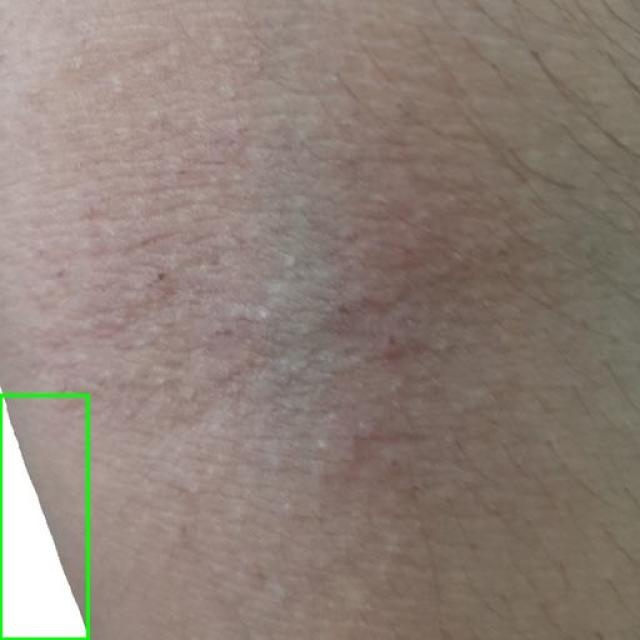Contact Dermatitis: (0, 395, 88, 639)
